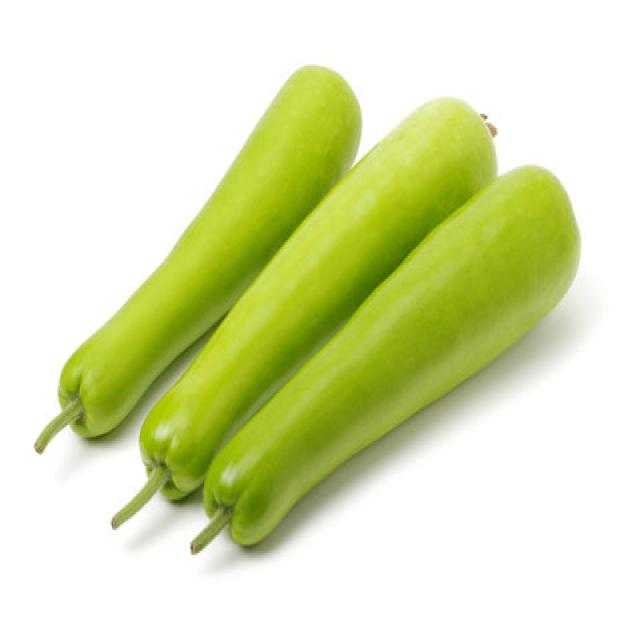Bottle Gourd: (38, 52, 586, 543)
